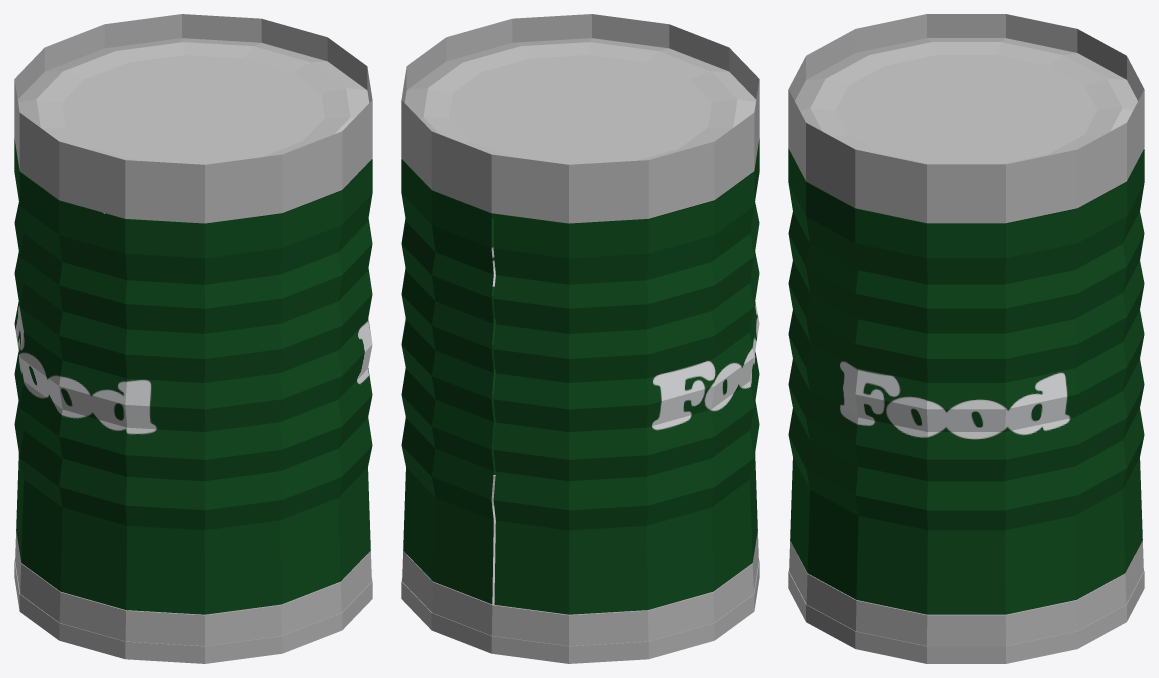
The model's file is can.fbx.
3 renders of one model, left to right at view 1: azimuth 30°, elevation 25°; view 2: azimuth 150°, elevation 25°; view 3: azimuth 270°, elevation 25°, orthographic.
Parts seen in each view (by area): view 1: Cylinder; view 2: Cylinder; view 3: Cylinder.
Boxes of the visible parts, x1,y1,x2,y2 form: Cylinder: (14,14,372,663); Cylinder: (401,14,759,663); Cylinder: (788,14,1144,663).
Size of the model in its own units: 7.3 by 11.3 by 7.3.
Materials: 2 (1 with a texture image).
